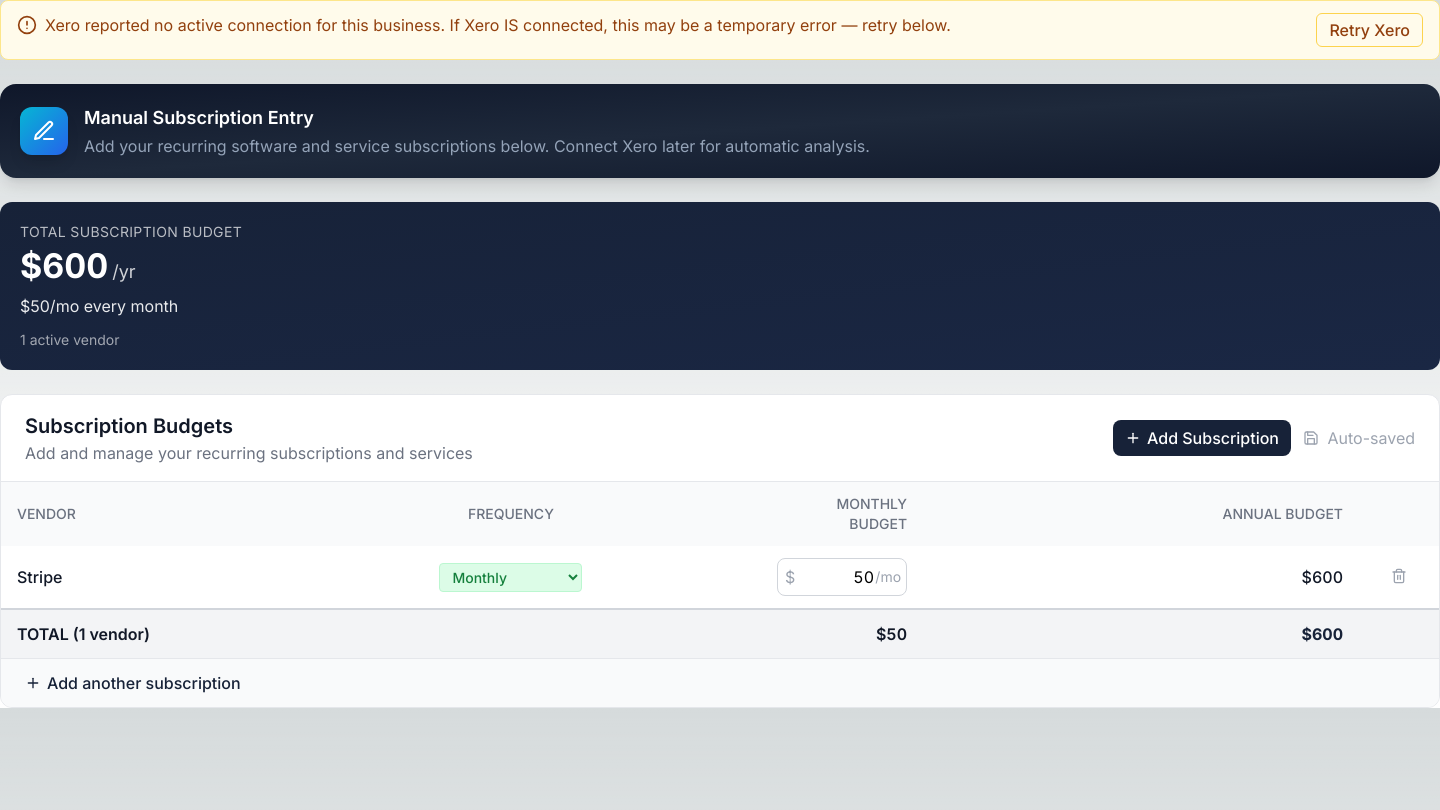
Test: Step 5 Subscriptions — VendorBudgetInput › decimals survive typing (the controlled predecessor collapsed "12." to 12)
This screenshot has width=1440, height=810.
Expected: the text "Stripe" is shown, [17,567,62,587]
Replace the text in the field with "12.5" at (842, 577), box [777,558,907,596]
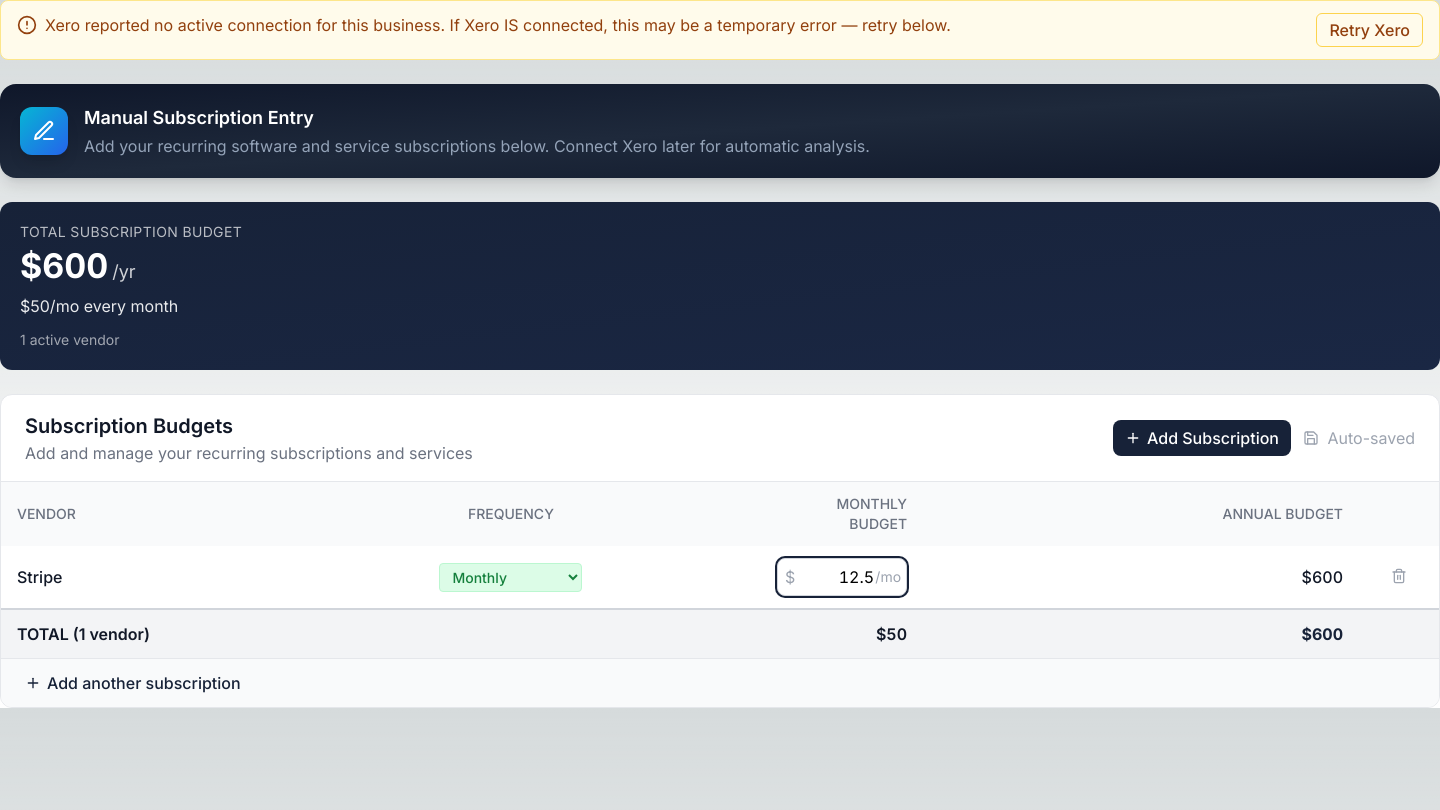
Press Tab
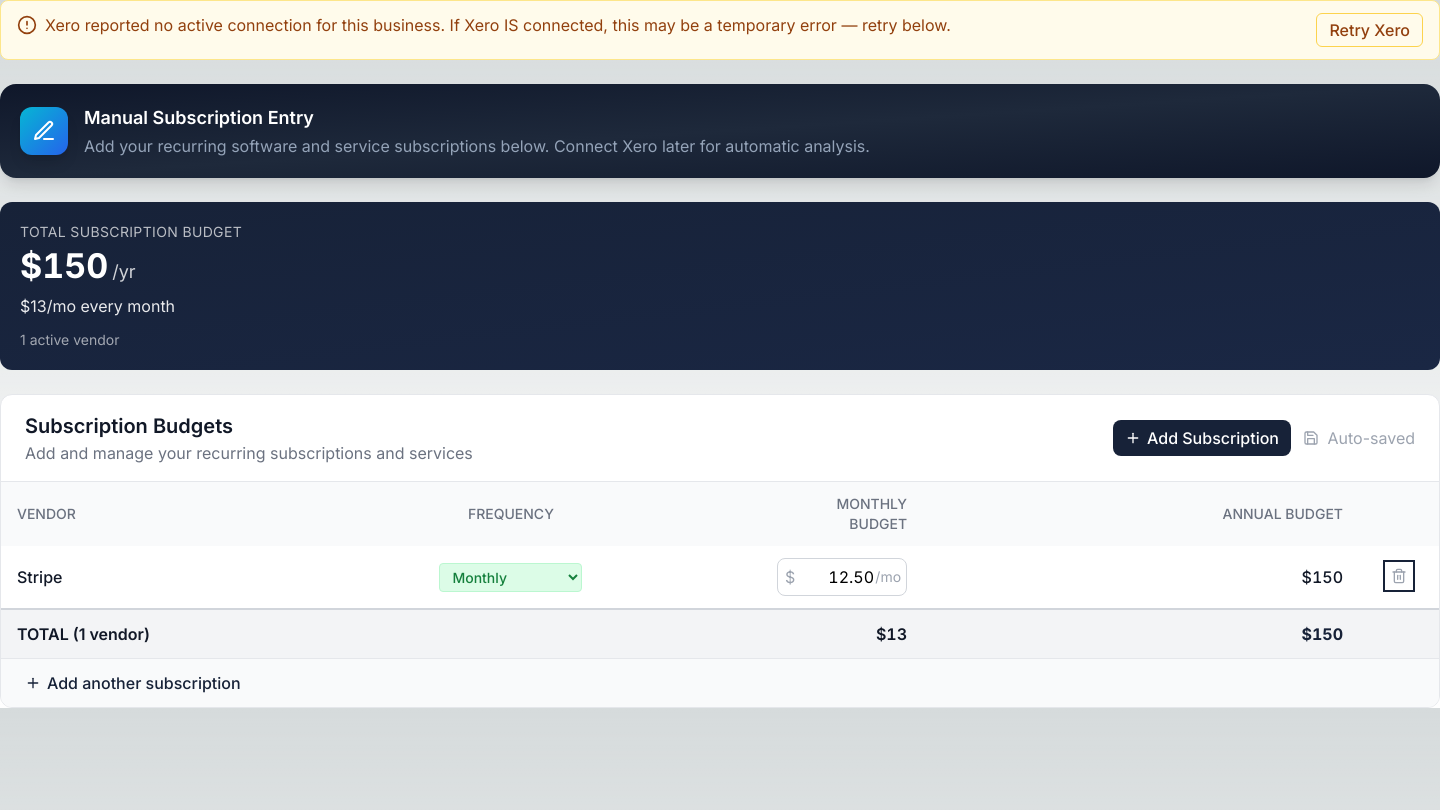
Expected: the field holds "12.50", [777,558,907,596]
